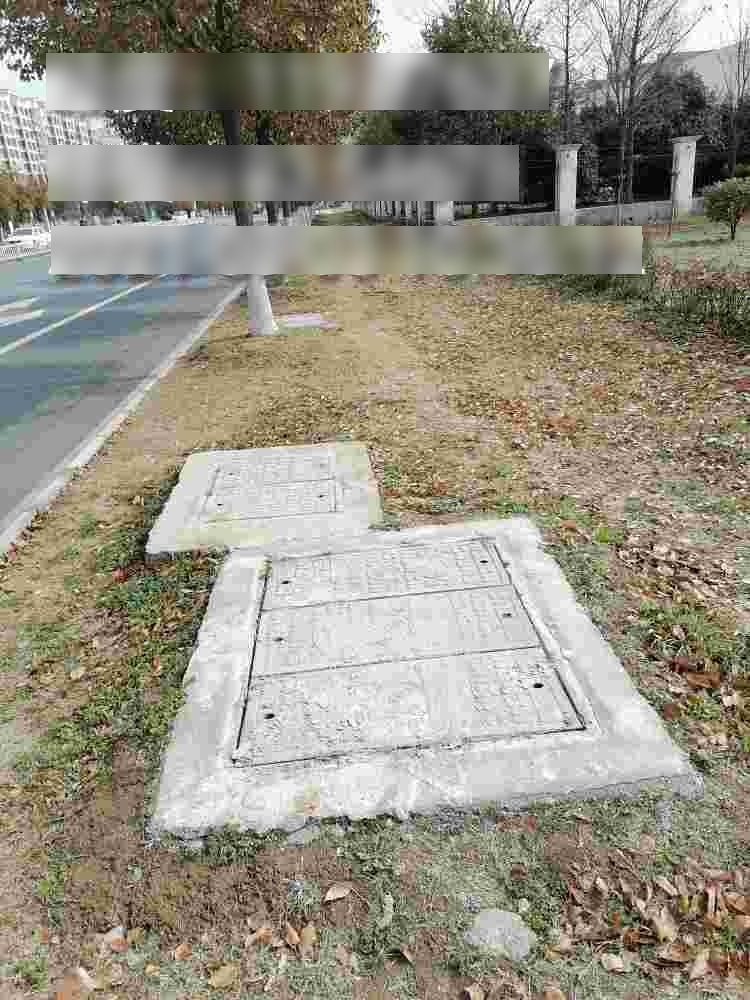good: (223, 533, 605, 770), (185, 443, 347, 527)
